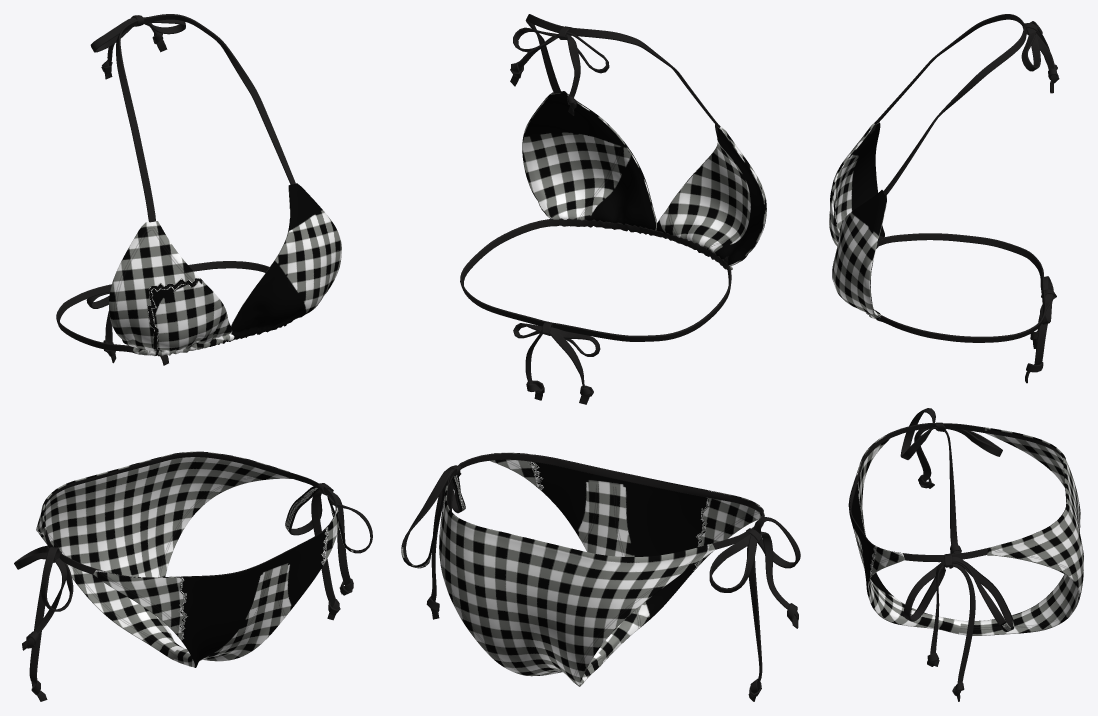
Rendered from bikini.glb.
3 renders of one model, left to right at view 1: azimuth 30°, elevation 25°; view 2: azimuth 150°, elevation 25°; view 3: azimuth 270°, elevation 25°, orthographic. The views are drawn at different scales.
Visible parts, largest first — view 1: bikini_all; view 2: bikini_all; view 3: bikini_all.
Part boxes in pixels (left/top/right/bottom): bikini_all: left=14, top=14, right=372, bottom=701; bikini_all: left=401, top=14, right=800, bottom=701; bikini_all: left=829, top=14, right=1083, bottom=701.
Size of the model in its own units: 0.375 by 0.658 by 0.2497.
1 material, 1 textured.
